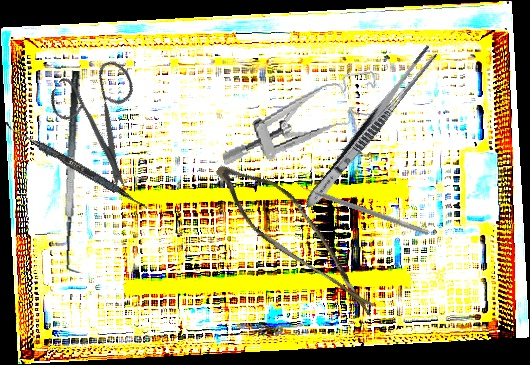Dressing Forceps: (299, 40, 441, 215)
Iris Scissors: (26, 42, 182, 196)
Micro Scissor: (194, 153, 407, 319)
Spatula Surgical: (0, 121, 152, 211), (56, 70, 98, 274), (295, 179, 431, 236)
Speculum: (213, 69, 387, 168)
